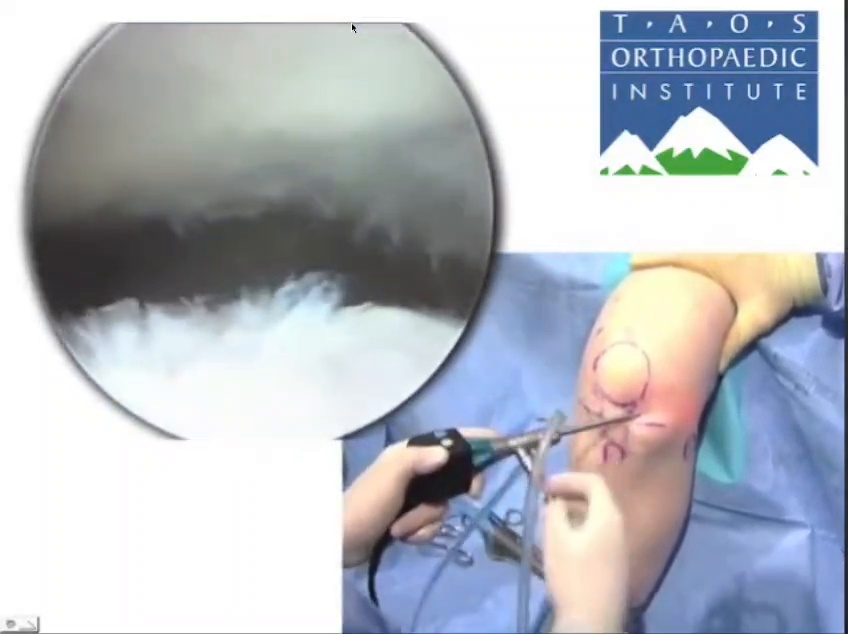arthroscope: (58, 0, 424, 199)
probe: (55, 263, 424, 460), (743, 504, 821, 559)
